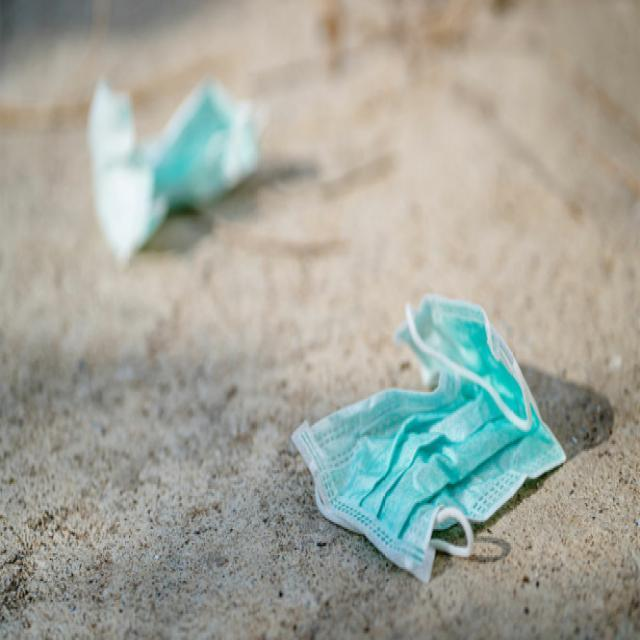face mask: (292, 292, 565, 578)
